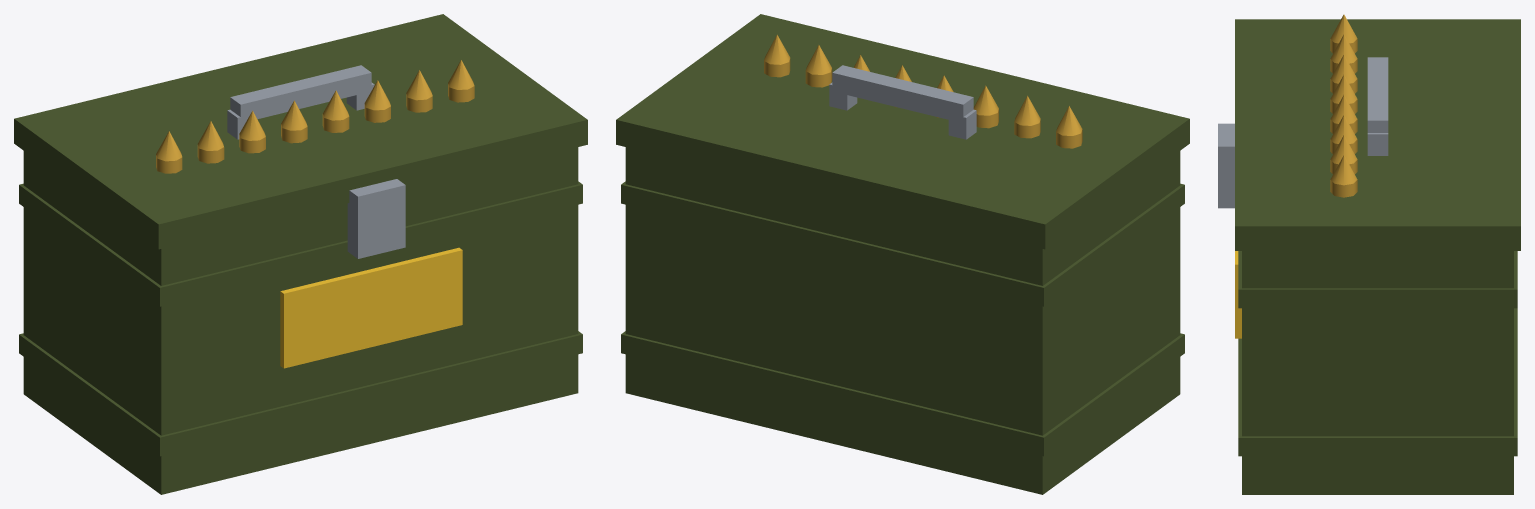
Rendered from AmmoBox.obj.
The picture shows the model from 3 angles, left to right: view 1: azimuth 30°, elevation 25°; view 2: azimuth 150°, elevation 25°; view 3: azimuth 270°, elevation 25°; orthographic projection.
Visible parts, largest first — view 1: Body, LidPlate, Ribs, Label, Bullets, Handle, Latch; view 2: Body, LidPlate, Ribs, Handle, Bullets; view 3: LidPlate, Body, Ribs, Bullets, Handle, Latch, Label.
Part boxes in pixels (box(x1,y1,x2,y2)): Body: box(23, 147, 578, 494); LidPlate: box(14, 14, 587, 249); Ribs: box(19, 181, 582, 456); Label: box(280, 247, 462, 368); Bullets: box(156, 60, 474, 173); Handle: box(227, 65, 374, 139); Latch: box(347, 179, 405, 258); Body: box(625, 147, 1180, 494); LidPlate: box(616, 14, 1189, 249); Ribs: box(621, 181, 1184, 456); Handle: box(829, 65, 976, 139); Bullets: box(764, 34, 1082, 148); LidPlate: box(1235, 19, 1520, 250); Body: box(1242, 251, 1513, 494); Ribs: box(1238, 251, 1517, 456); Bullets: box(1330, 14, 1357, 197); Handle: box(1367, 57, 1388, 155); Latch: box(1218, 123, 1234, 208); Label: box(1235, 251, 1241, 338).
Bounding box in the file's own units: 0.72 × 0.5 × 0.445.
